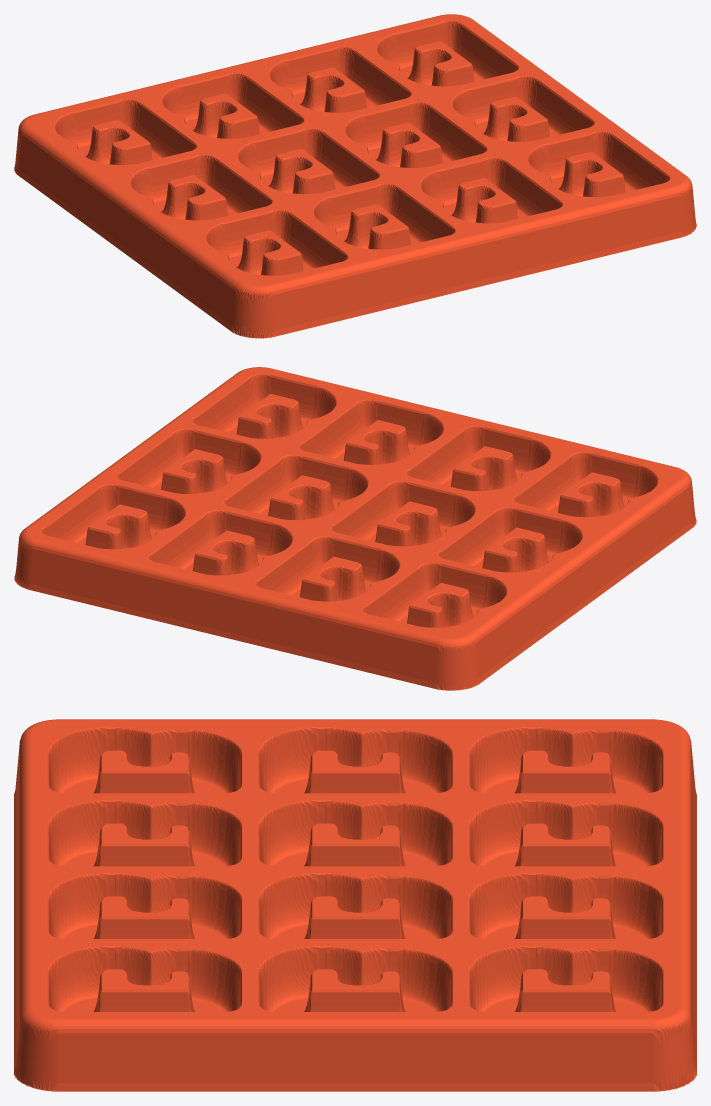
File: mold.glb
3 views of the same model, one above another, from view 1: azimuth 30°, elevation 25°; view 2: azimuth 150°, elevation 25°; view 3: azimuth 270°, elevation 25° (orthographic). The views are drawn at different scales.
Visible parts, largest first — view 1: geometry_0; view 2: geometry_0; view 3: geometry_0.
Boxes of the visible parts, box(x1,y1,x2,y2) form: geometry_0: box(14, 14, 696, 338); geometry_0: box(14, 367, 696, 690); geometry_0: box(14, 719, 696, 1091).
Bounding box in the file's own units: 0.1492 × 0.0145 × 0.1374.
